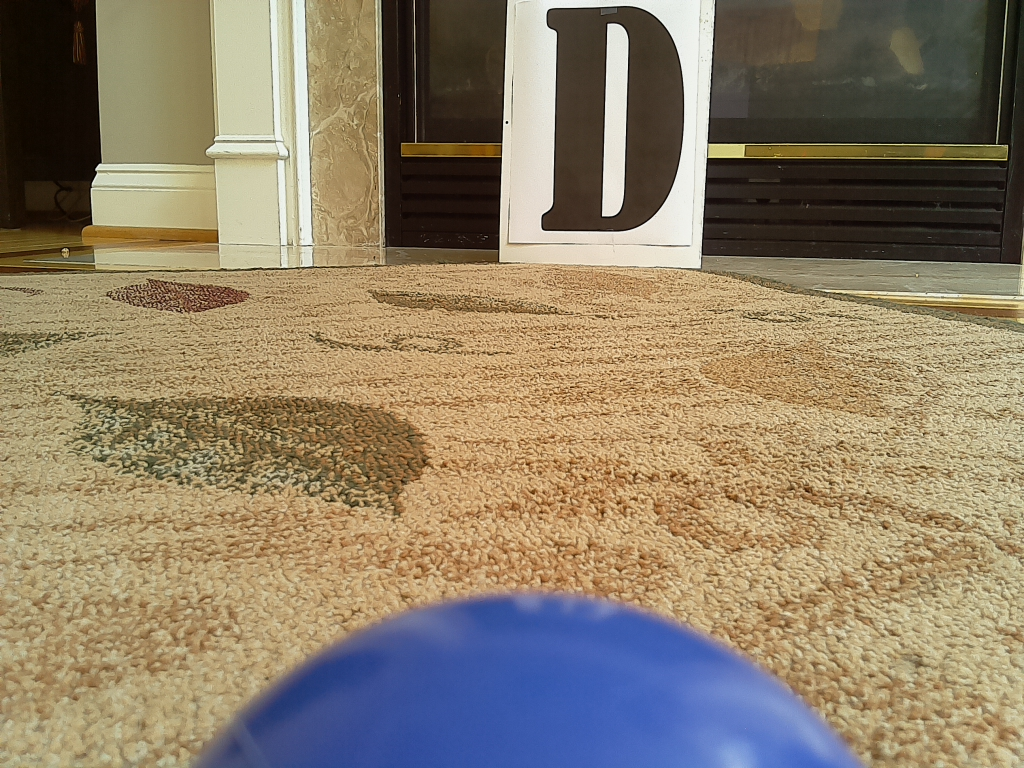letter: (546, 6, 684, 232)
